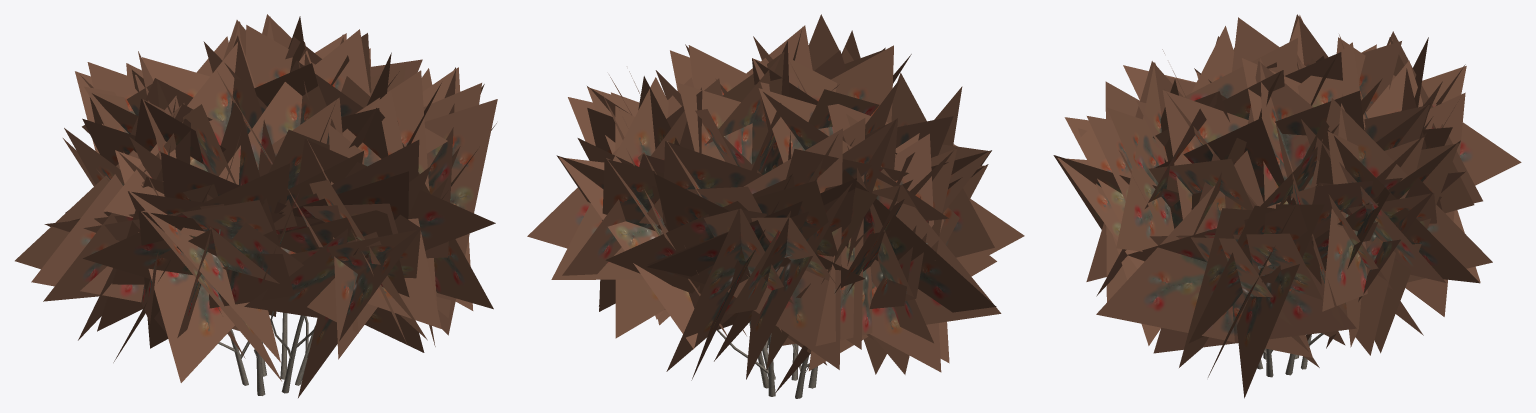
The model's file is Amelanchier_Canadensis_Autumn_Young.glb.
3 views of the same model, side by side, from view 1: azimuth 30°, elevation 25°; view 2: azimuth 150°, elevation 25°; view 3: azimuth 270°, elevation 25° (orthographic). The views are drawn at different scales.
Visible parts, largest first — view 1: Amelanchier_Canadensis_Autumn_Young__LOD3; view 2: Amelanchier_Canadensis_Autumn_Young__LOD3; view 3: Amelanchier_Canadensis_Autumn_Young__LOD3.
Boxes of the visible parts, x1,y1,x2,y2 form: Amelanchier_Canadensis_Autumn_Young__LOD3: (15,14,497,397); Amelanchier_Canadensis_Autumn_Young__LOD3: (527,14,1024,398); Amelanchier_Canadensis_Autumn_Young__LOD3: (1053,14,1521,398).
Size of the model in its own units: 2.94 by 2.1 by 2.81.
Materials: 2 (2 with a texture image).
